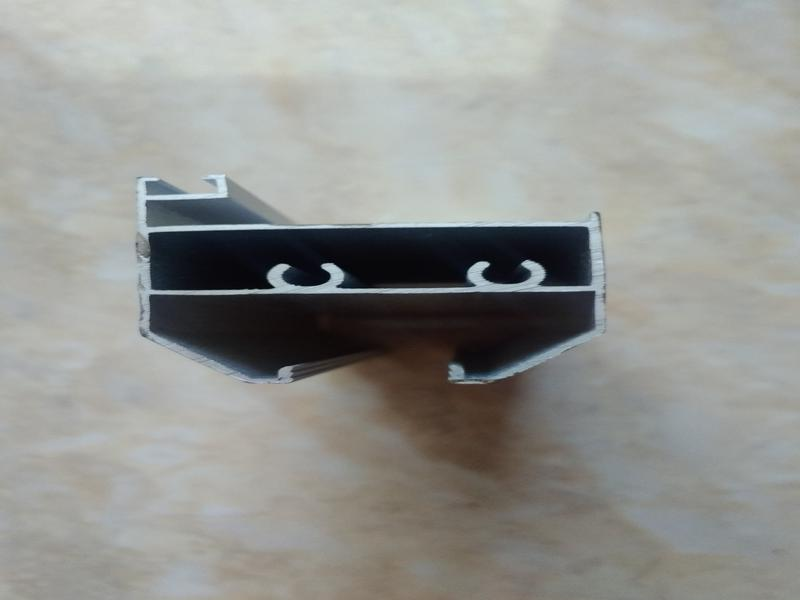Aluminium_3: (100, 145, 674, 427)
